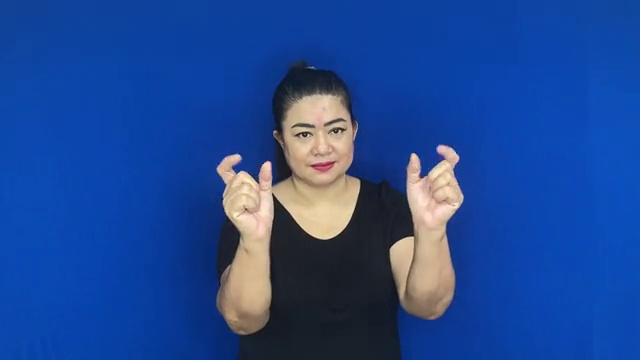crab: (212, 138, 468, 247)
